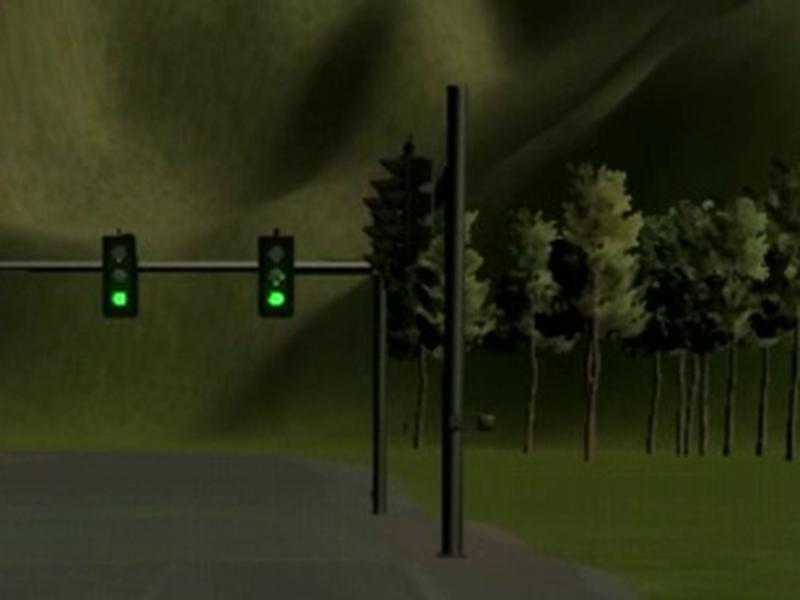Green: (258, 235, 294, 318), (102, 235, 137, 316)
